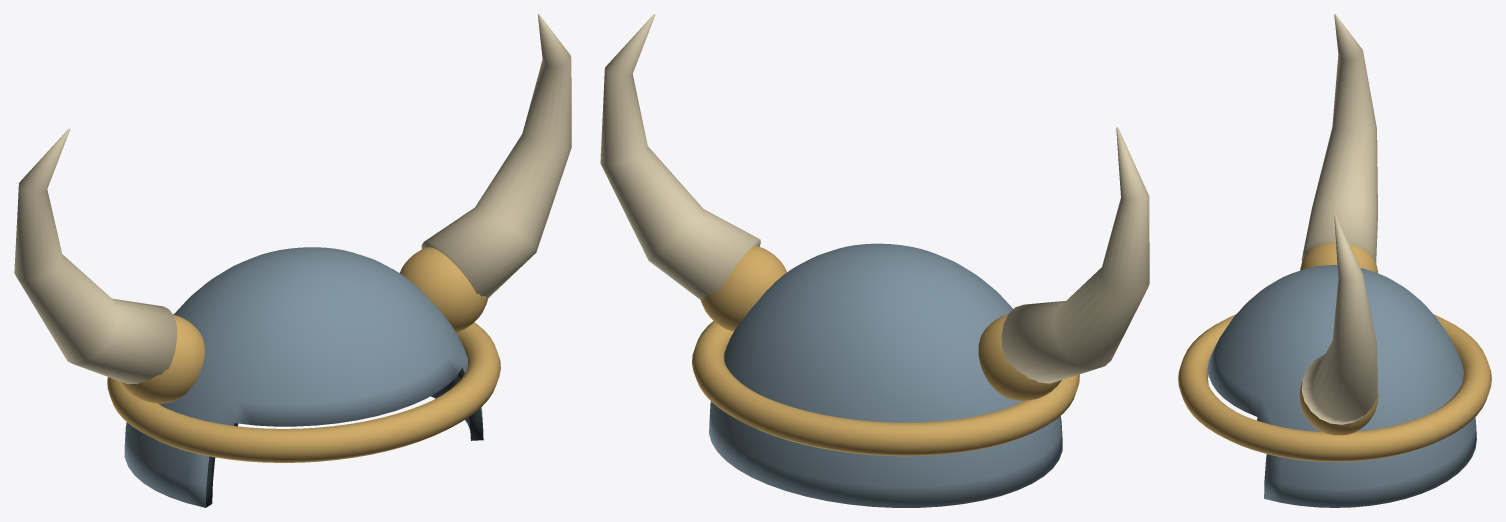
The model's file is horned-helm.glb.
The picture shows the model from 3 angles, left to right: view 1: azimuth 30°, elevation 25°; view 2: azimuth 150°, elevation 25°; view 3: azimuth 270°, elevation 25°; orthographic projection. The views are drawn at different scales.
Visible parts, largest first — view 1: Horned battle helmet, Swept ivory horn, Swept ivory horn.001, Heavy brow rim, Horn mounting boss.001, Horn mounting boss; view 2: Horned battle helmet, Swept ivory horn.001, Swept ivory horn, Heavy brow rim, Horn mounting boss.001, Horn mounting boss; view 3: Horned battle helmet, Heavy brow rim, Swept ivory horn, Swept ivory horn.001, Horn mounting boss, Horn mounting boss.001.
Part boxes in pixels (x1,y1,x2,y2): Horned battle helmet: [124, 247, 483, 507]; Swept ivory horn: [14, 129, 176, 384]; Swept ivory horn.001: [421, 14, 571, 297]; Heavy brow rim: [107, 314, 500, 462]; Horn mounting boss.001: [400, 247, 488, 332]; Horn mounting boss: [121, 314, 204, 403]; Horned battle helmet: [709, 243, 1062, 507]; Swept ivory horn.001: [600, 14, 760, 299]; Swept ivory horn: [1001, 127, 1149, 383]; Heavy brow rim: [692, 321, 1079, 456]; Horn mounting boss.001: [700, 246, 786, 331]; Horn mounting boss: [978, 314, 1061, 400]; Horned battle helmet: [1207, 265, 1476, 507]; Heavy brow rim: [1178, 314, 1491, 461]; Swept ivory horn: [1301, 14, 1377, 263]; Swept ivory horn.001: [1301, 214, 1377, 424]; Horn mounting boss: [1300, 242, 1377, 273]; Horn mounting boss.001: [1299, 381, 1378, 435].
Bounding box in the file's own units: 1.41 × 0.9125 × 0.796.
